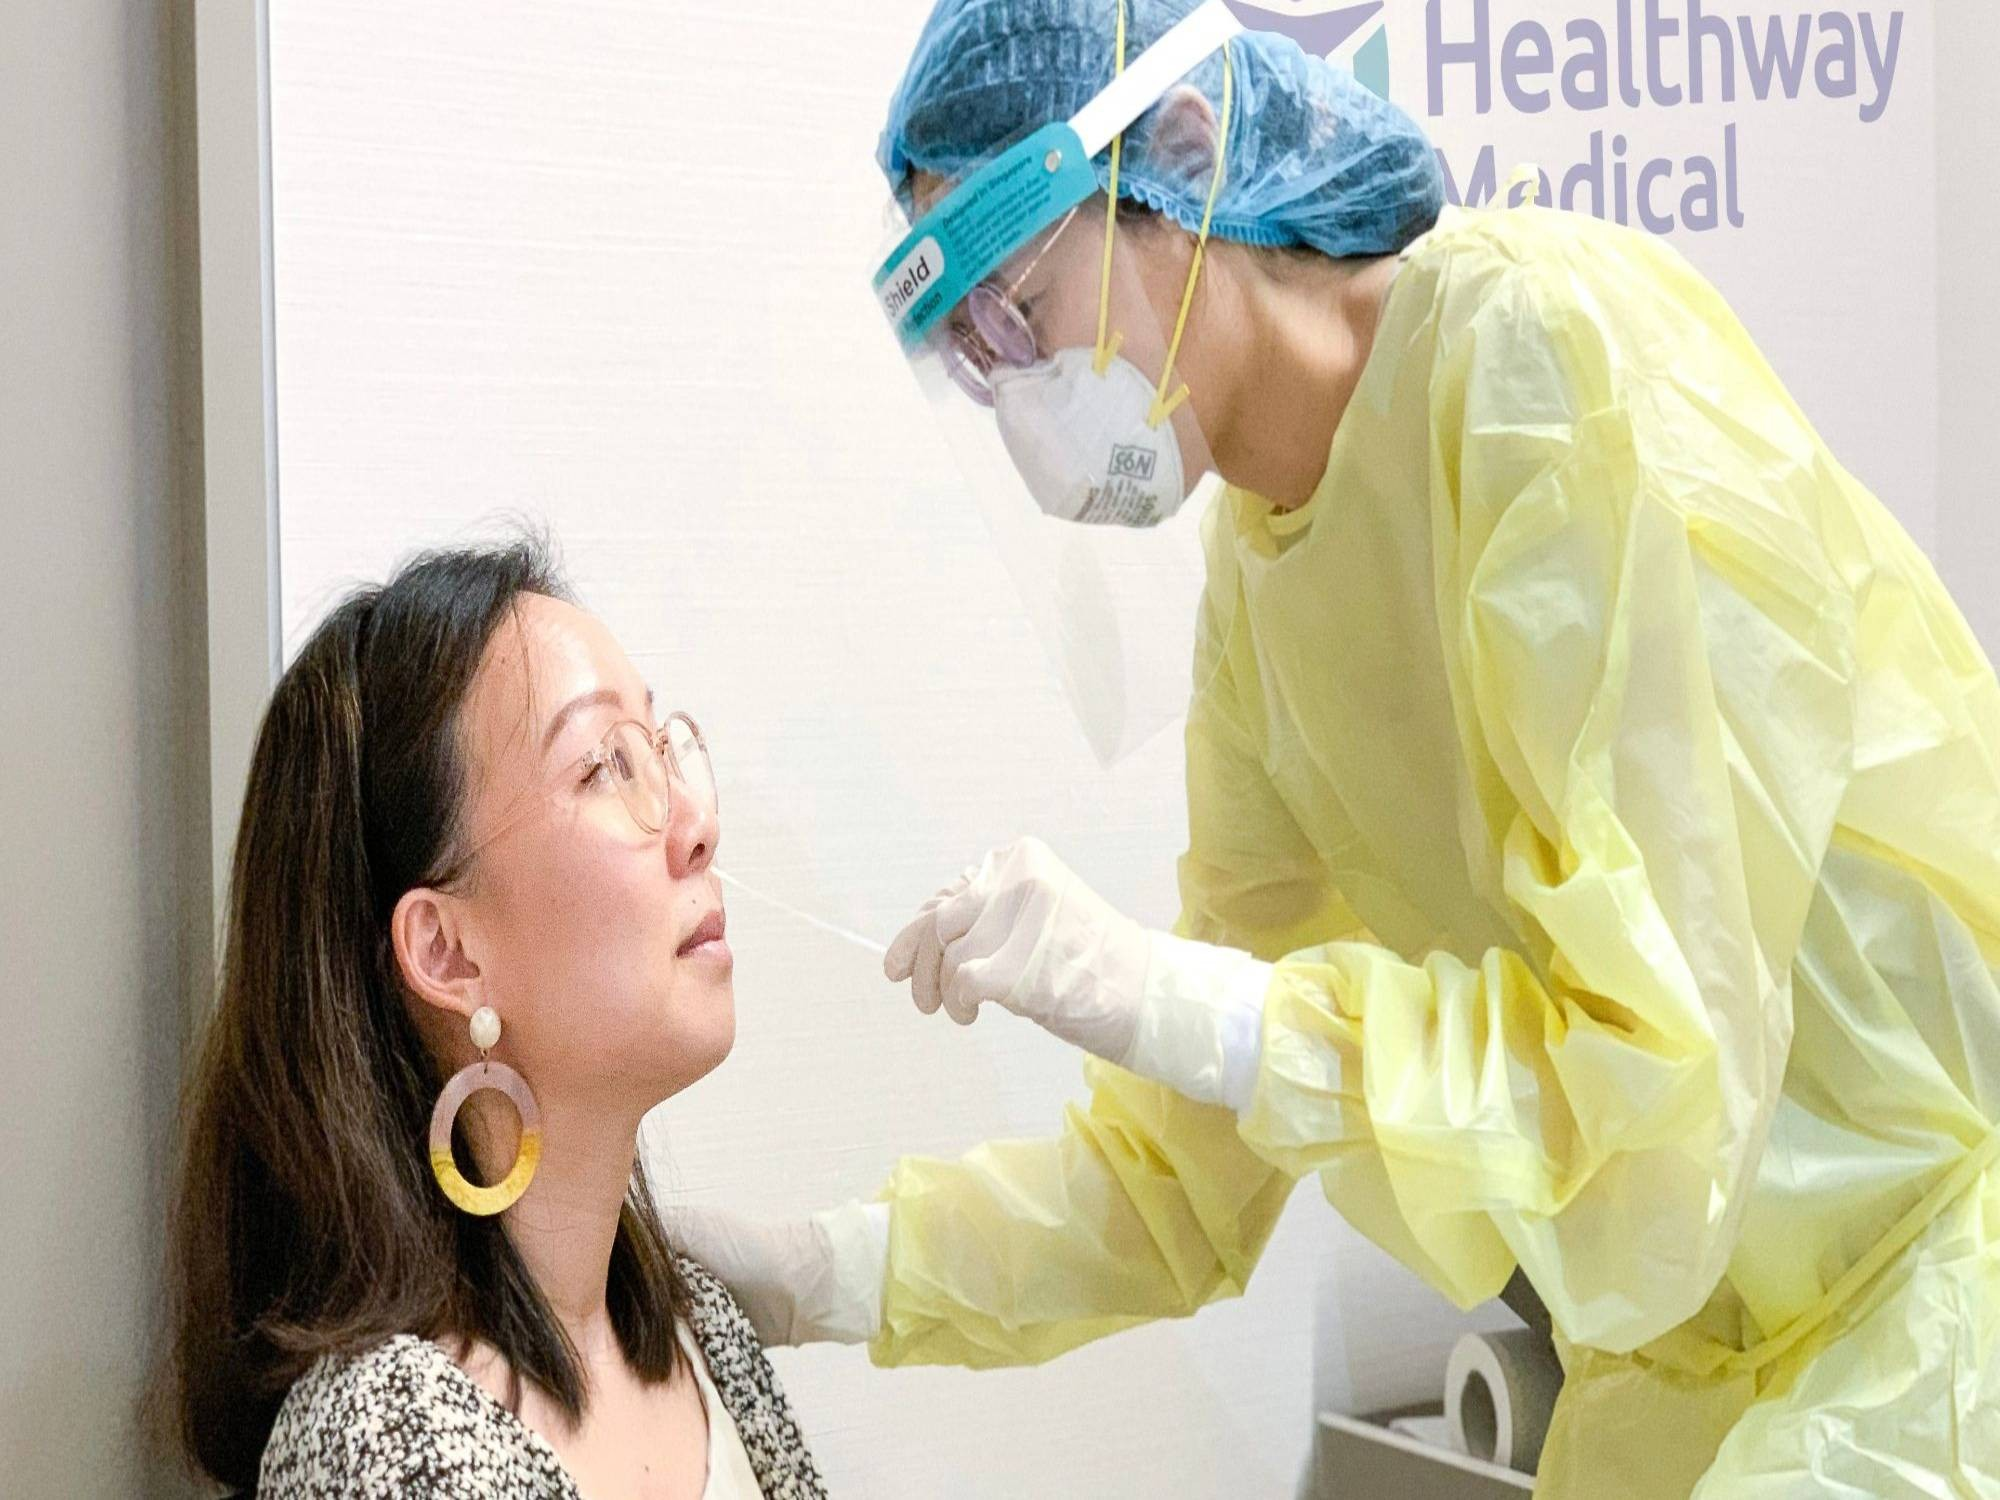Coverall: (869, 202, 2000, 1500)
Face_Shield: (864, 117, 1258, 786)
Gloves: (871, 821, 1297, 1139), (640, 1169, 916, 1365)
with_mask: (938, 243, 1208, 539)
without_mask: (498, 677, 747, 1110)
